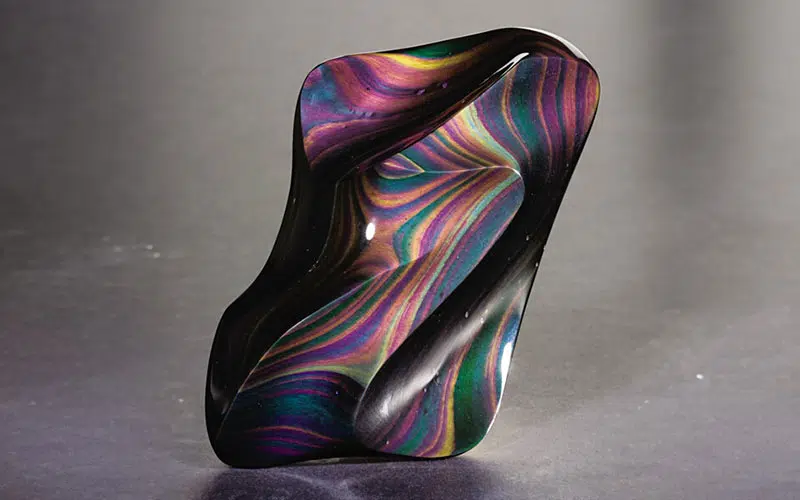Obsidian: (200, 25, 601, 469)
